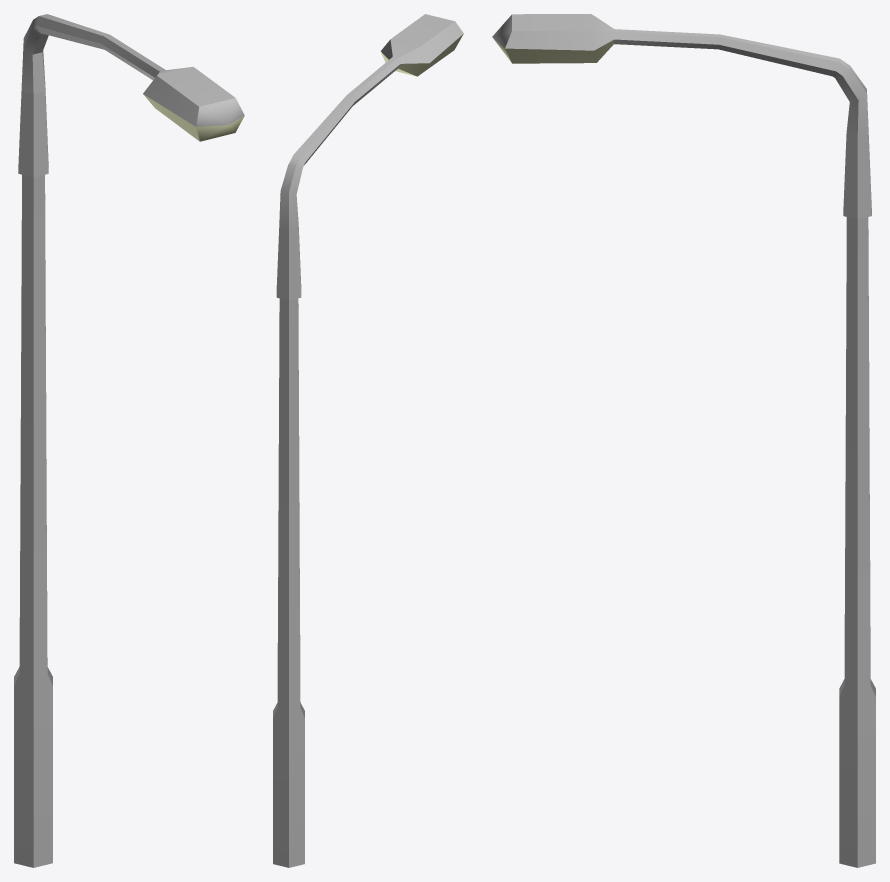
Rendered from Light.fbx.
3 views of the same model, side by side, from view 1: azimuth 30°, elevation 25°; view 2: azimuth 150°, elevation 25°; view 3: azimuth 270°, elevation 25° (orthographic). The views are drawn at different scales.
Parts seen in each view (by area): view 1: pCylinder1; view 2: pCylinder1; view 3: pCylinder1.
Part boxes in pixels (<box>): pCylinder1: <box>14,14,244,867</box>; pCylinder1: <box>273,14,463,867</box>; pCylinder1: <box>492,14,875,867</box>.
Size of the model in its own units: 1.48 by 21.12 by 8.78.
